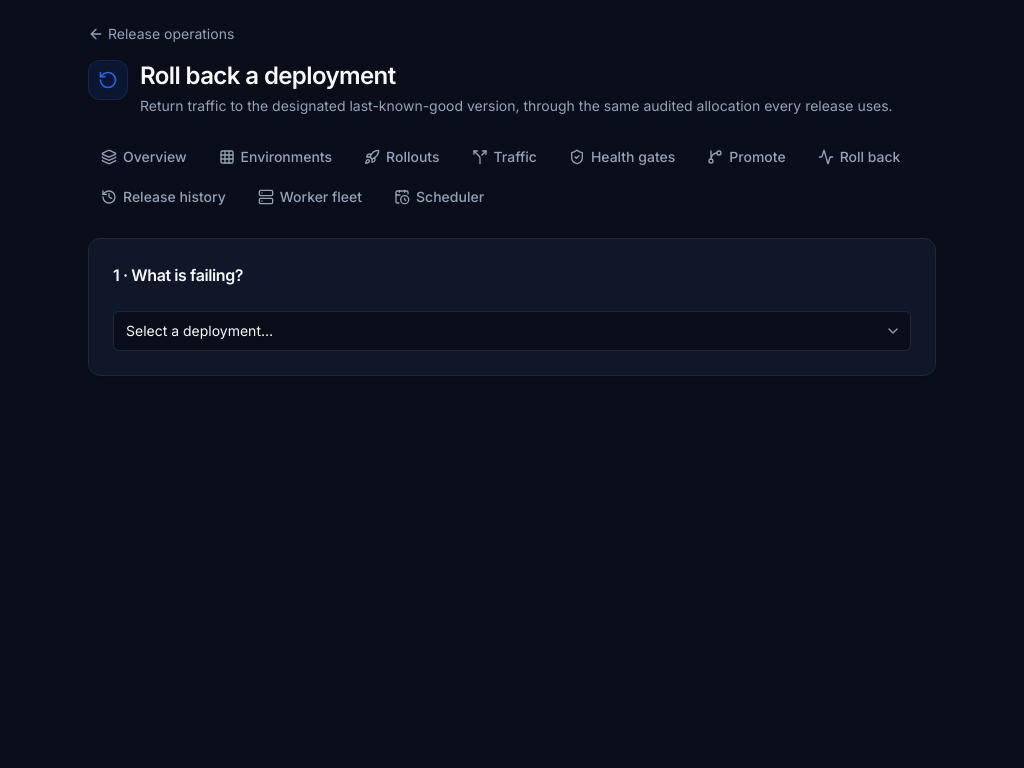
Test: AC-04..06 — traffic, gates and the wizards › shows the rollback target rather than offering a version picker
Select "Billing Assistant — 2.0.0 in PRODUCTION" in the dropdown named "Deployment to roll back" at point(512, 331), box [113,311,911,351]
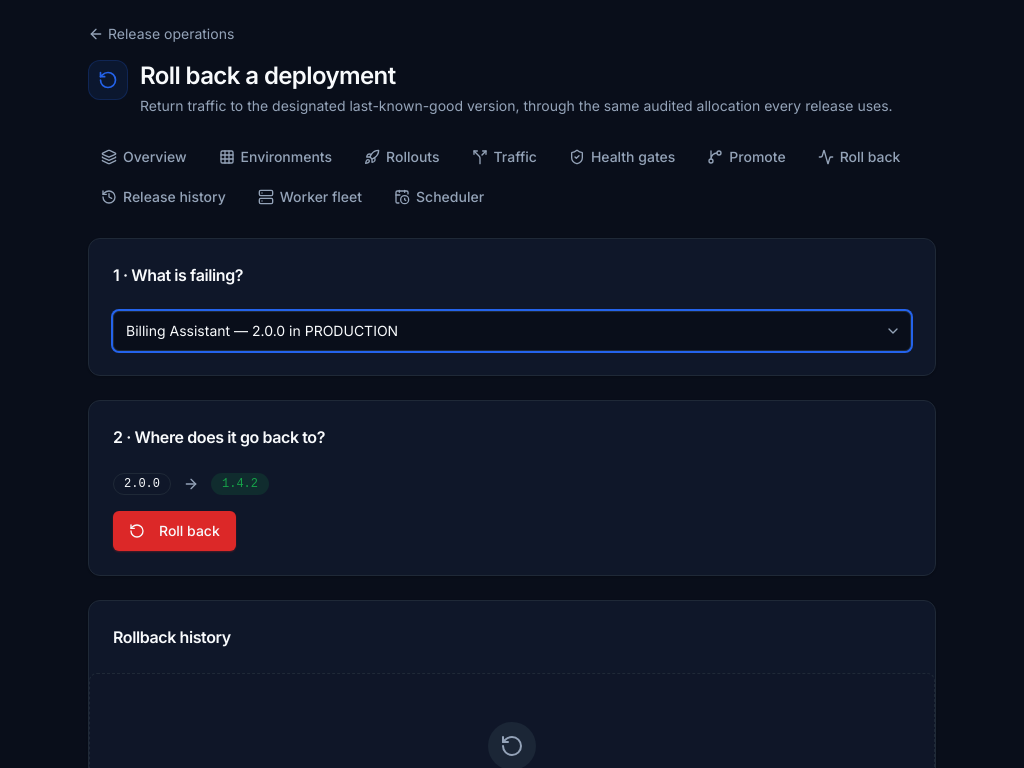
Result: the text "1.4.2" is shown at [211,473,269,495]
